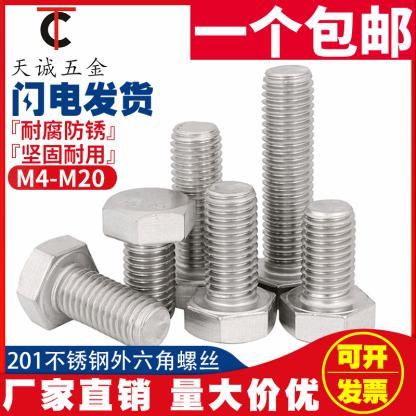FOD: (16, 233, 172, 346), (252, 64, 322, 306), (182, 181, 278, 344), (278, 197, 378, 346), (160, 119, 236, 308), (100, 186, 197, 331)
